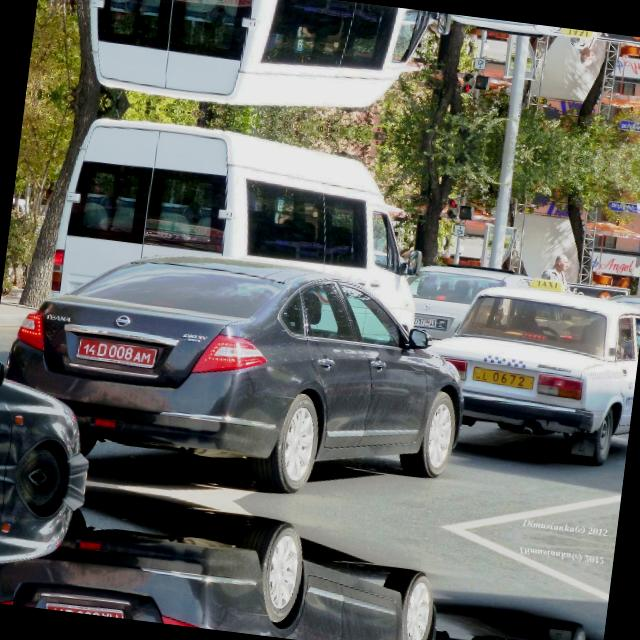diplomatic: (72, 332, 162, 370), (40, 596, 128, 619)
taxi: (468, 361, 540, 395)
